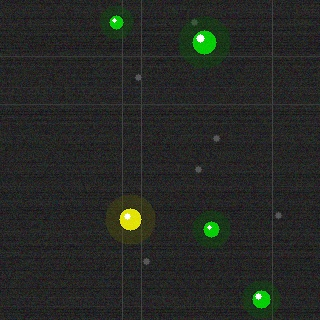green_normal: (190, 28, 218, 56), (250, 288, 272, 310), (201, 219, 221, 239), (107, 13, 125, 31)
yellow_warning: (117, 206, 143, 232)
